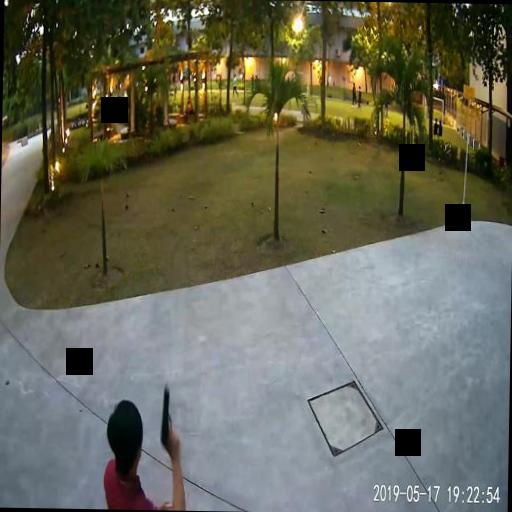Handgun: (158, 386, 180, 448)
